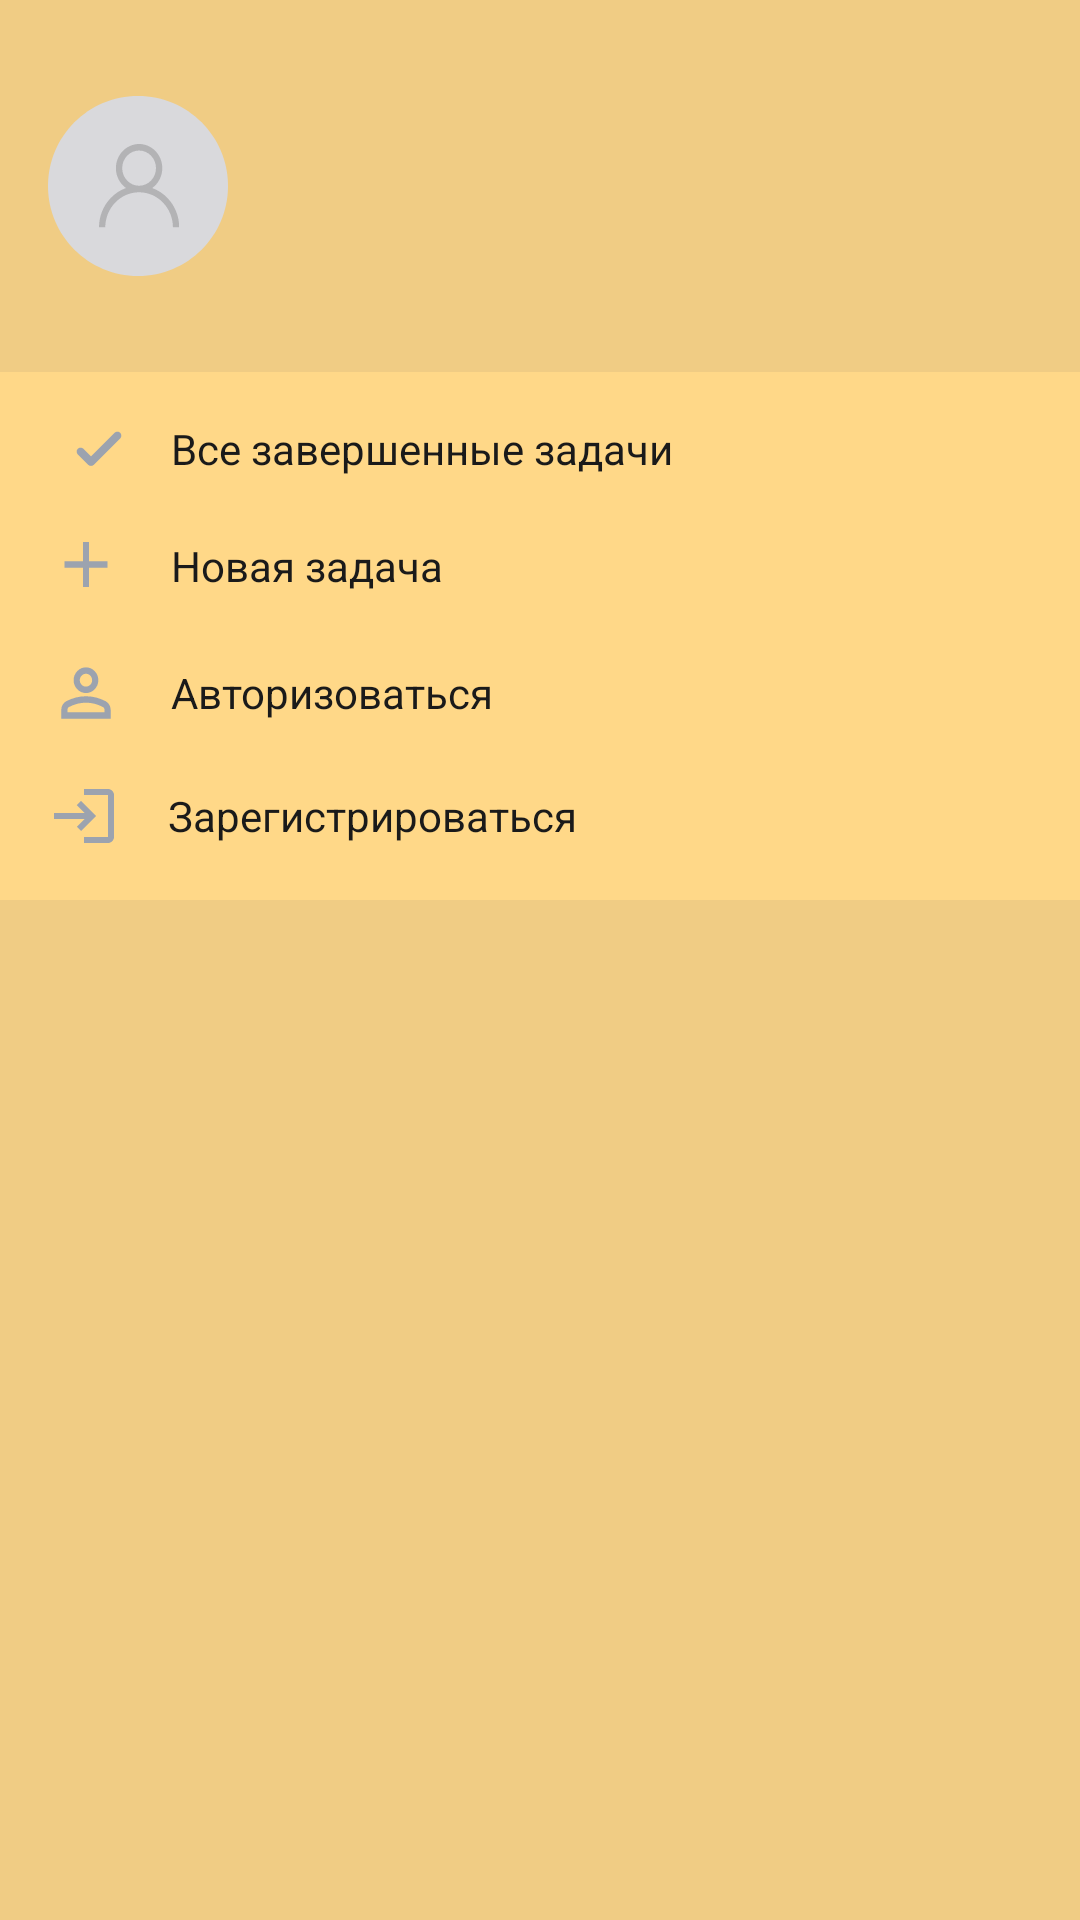

Screen size 1080×1920. Icon name, then its box in pixels as detection(x1, y1, x2, y2):
login: detection(54, 789, 114, 843)
plus: detection(64, 542, 108, 587)
tick: detection(76, 432, 122, 466)
